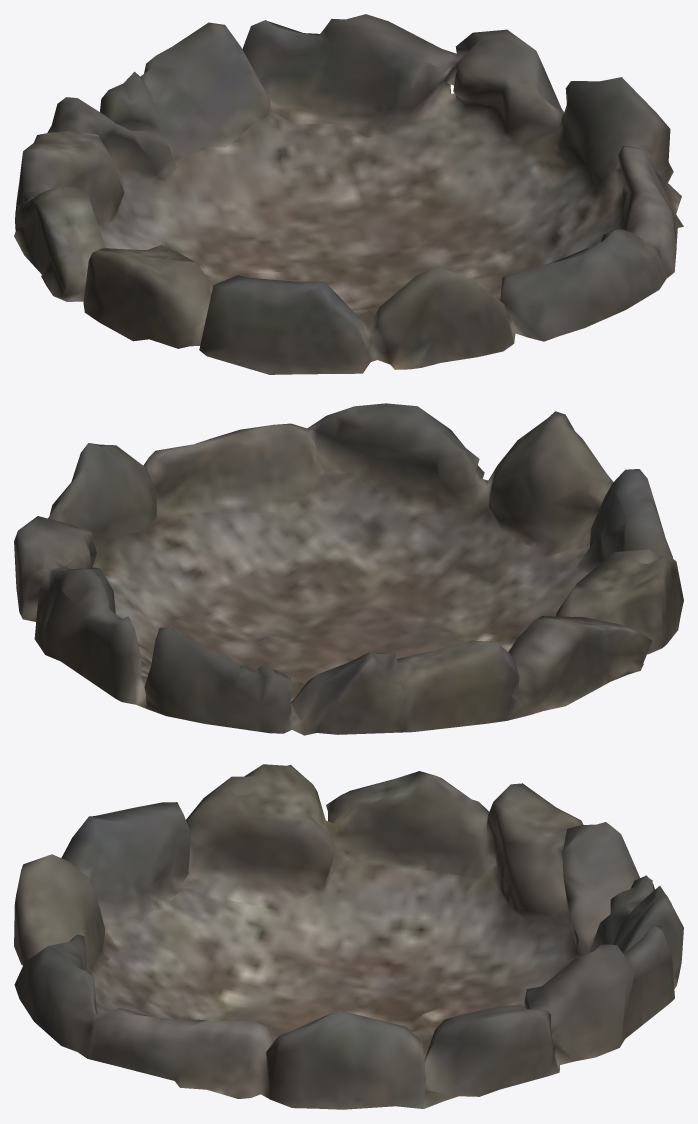
File: ph_firepit.glb
3 views of the same model, one above another, from view 1: azimuth 30°, elevation 25°; view 2: azimuth 150°, elevation 25°; view 3: azimuth 270°, elevation 25° (orthographic).
Visible parts, largest first — view 1: ph_firepit; view 2: ph_firepit; view 3: ph_firepit.
Boxes of the visible parts, <box> form: ph_firepit: <box>14,14,683,374</box>; ph_firepit: <box>14,403,683,735</box>; ph_firepit: <box>14,764,683,1109</box>.
Size of the model in its own units: 1.45 by 0.3883 by 1.43.
Materials: 1 (1 with a texture image).
